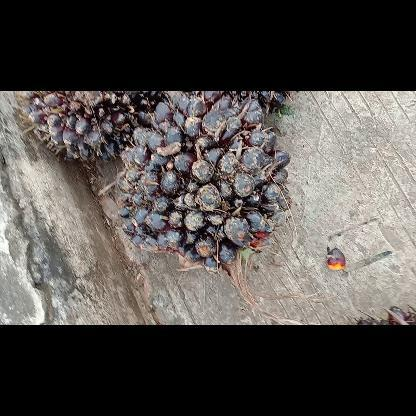TBS mentah: (118, 90, 294, 272), (25, 91, 164, 165)
